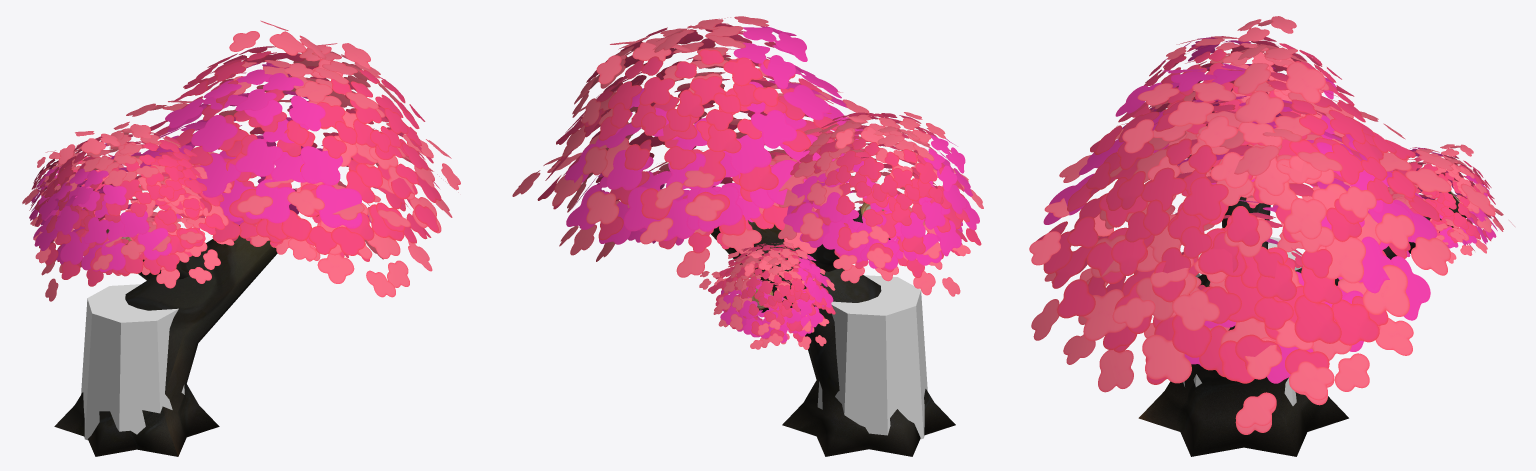
The model's file is cerejeira_adulta.glb.
3 renders of one model, left to right at view 1: azimuth 30°, elevation 25°; view 2: azimuth 150°, elevation 25°; view 3: azimuth 270°, elevation 25°, orthographic. The views are drawn at different scales.
Visible parts, largest first — view 1: MidGrow.005_13, Colisao.009; view 2: MidGrow.005_13, Colisao.009; view 3: MidGrow.005_13.
Part boxes in pixels (x1=…): MidGrow.005_13: x1=22, y1=20, x2=460, y2=456; Colisao.009: x1=81, y1=284, x2=184, y2=440; MidGrow.005_13: x1=512, y1=16, x2=983, y2=456; Colisao.009: x1=817, y1=275, x2=927, y2=439; MidGrow.005_13: x1=1029, y1=16, x2=1514, y2=456.
Bounding box in the file's own units: 4.57 × 3.6 × 3.62.
1 material, 1 textured.
